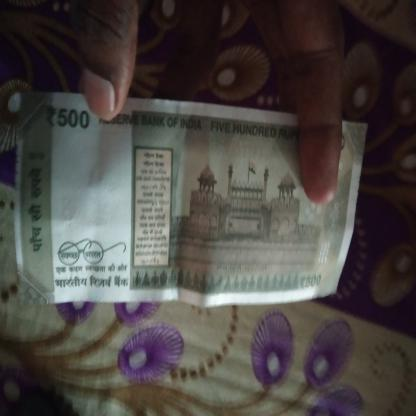New500Back: (17, 98, 363, 302)
